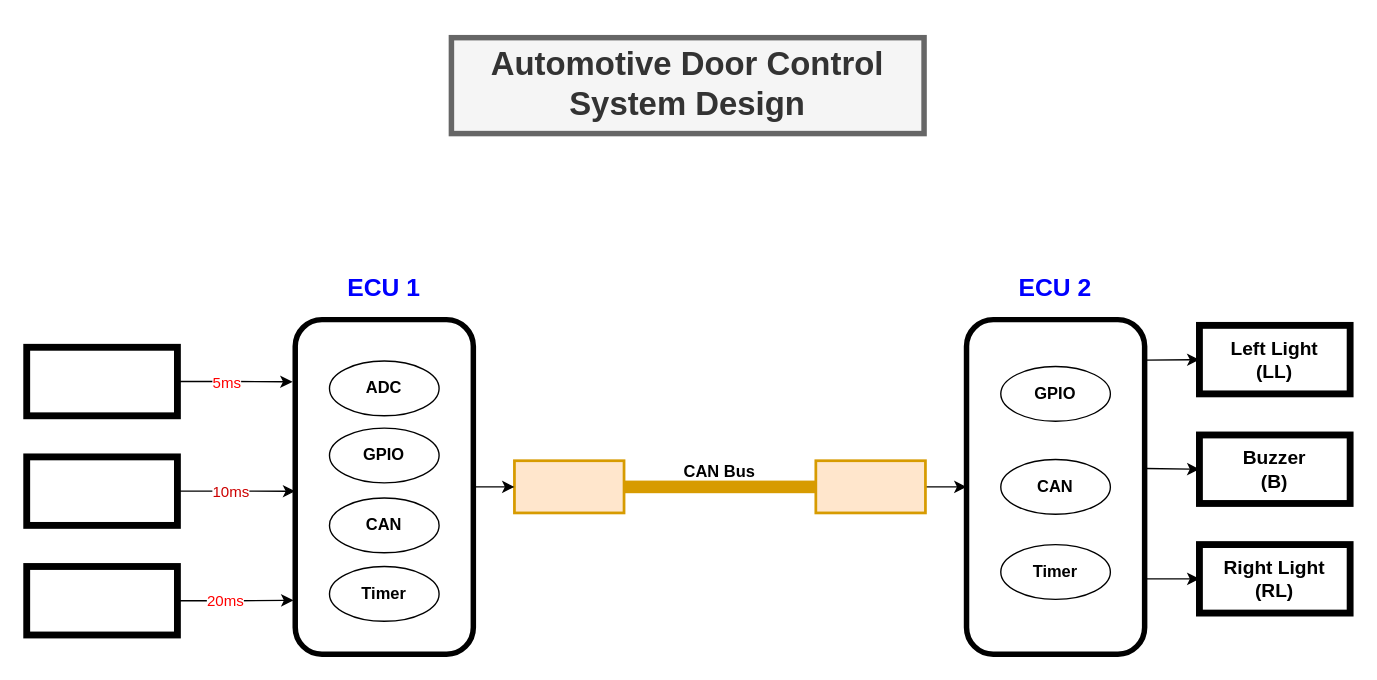
Image size: 1377x680. Some labels were removed from this diagram. The shapes that lost their labels are listed below. From the top down, each one's centre as x and y in pixels, then its label:
pixel 101 381: Speed Sensor (S)
pixel 101 490: Door Sensor (D)
pixel 568 486: CAN Transceiver 1
pixel 870 486: CAN Transceiver 2
pixel 101 600: Light Switch (L)
